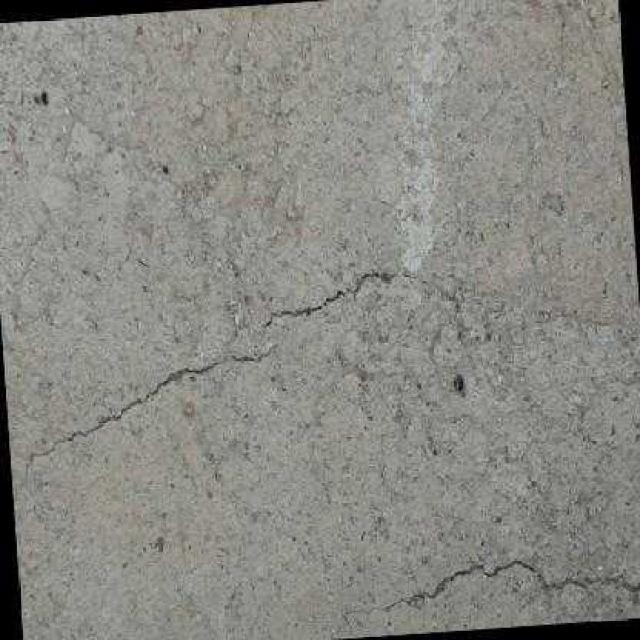D00: (33, 344, 270, 460), (382, 558, 640, 611), (263, 267, 395, 325)
